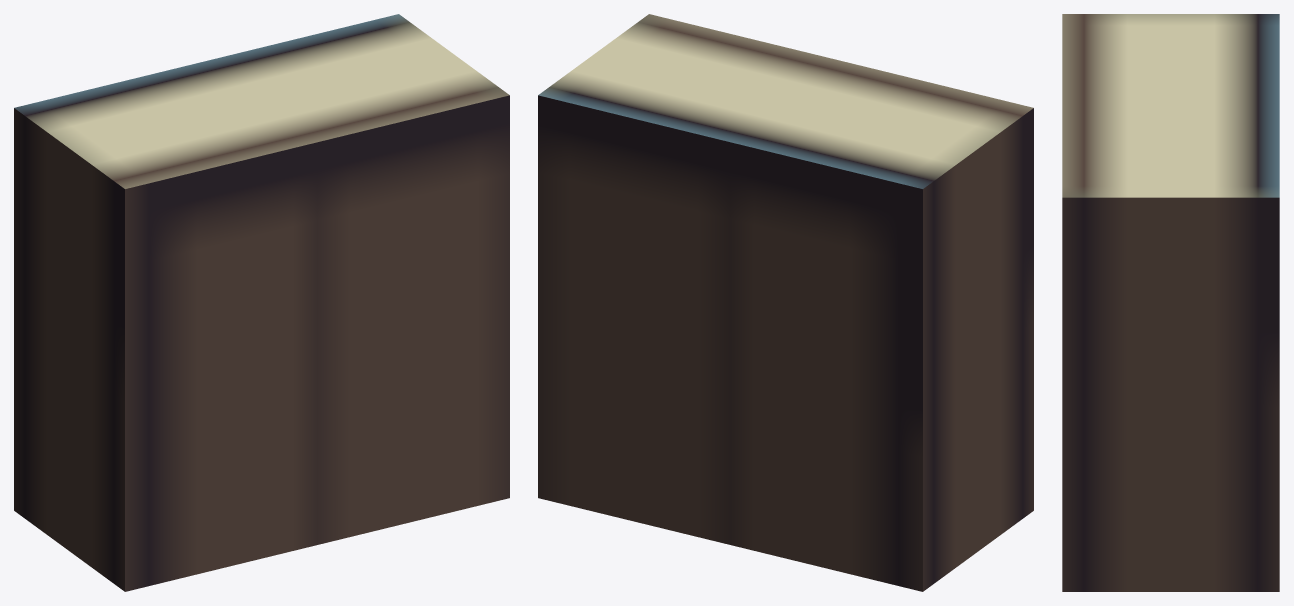
The model's file is wall3.fbx.
The picture shows the model from 3 angles, left to right: view 1: azimuth 30°, elevation 25°; view 2: azimuth 150°, elevation 25°; view 3: azimuth 270°, elevation 25°; orthographic projection. The views are drawn at different scales.
Parts seen in each view (by area): view 1: Wall1.008; view 2: Wall1.008; view 3: Wall1.008.
Part boxes in pixels (bbox=[...]): Wall1.008: bbox=[14, 14, 509, 591]; Wall1.008: bbox=[538, 14, 1033, 591]; Wall1.008: bbox=[1062, 14, 1279, 591].
Size of the model in its own units: 200 by 200 by 100.
